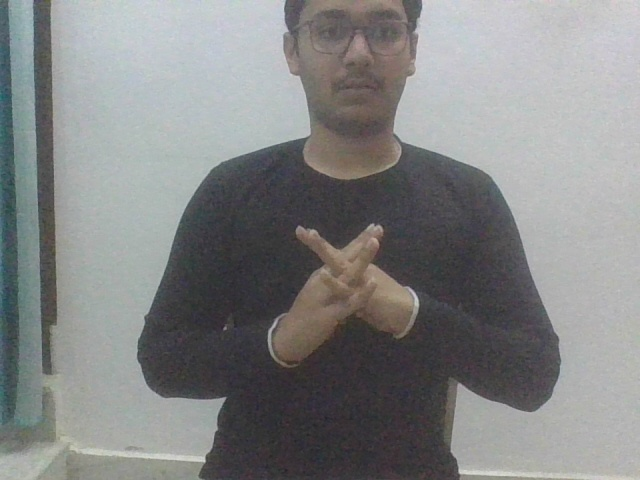W: (265, 213, 422, 370)
